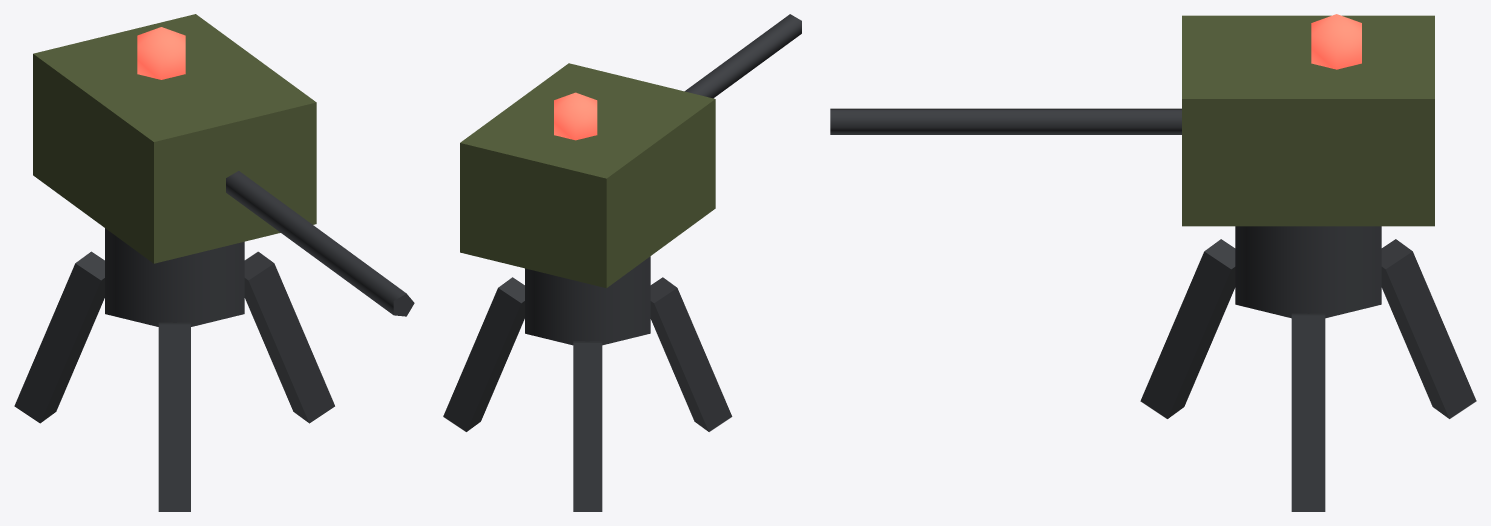
File: unit_mil_sentry_a06_lod2.glb
3 views of the same model, side by side, from view 1: azimuth 30°, elevation 25°; view 2: azimuth 150°, elevation 25°; view 3: azimuth 270°, elevation 25° (orthographic). The views are drawn at different scales.
Visible parts, largest first — view 1: turret, body; view 2: turret, body; view 3: turret, body.
Part boxes in pixels (bbox=[...]): turret: bbox=[33, 14, 414, 316]; body: bbox=[14, 228, 334, 511]; turret: bbox=[460, 14, 801, 288]; body: bbox=[443, 256, 732, 511]; turret: bbox=[830, 14, 1434, 226]; body: bbox=[1140, 226, 1476, 511].
Bounding box in the file's own units: 1.04 × 1.69 × 2.3.
